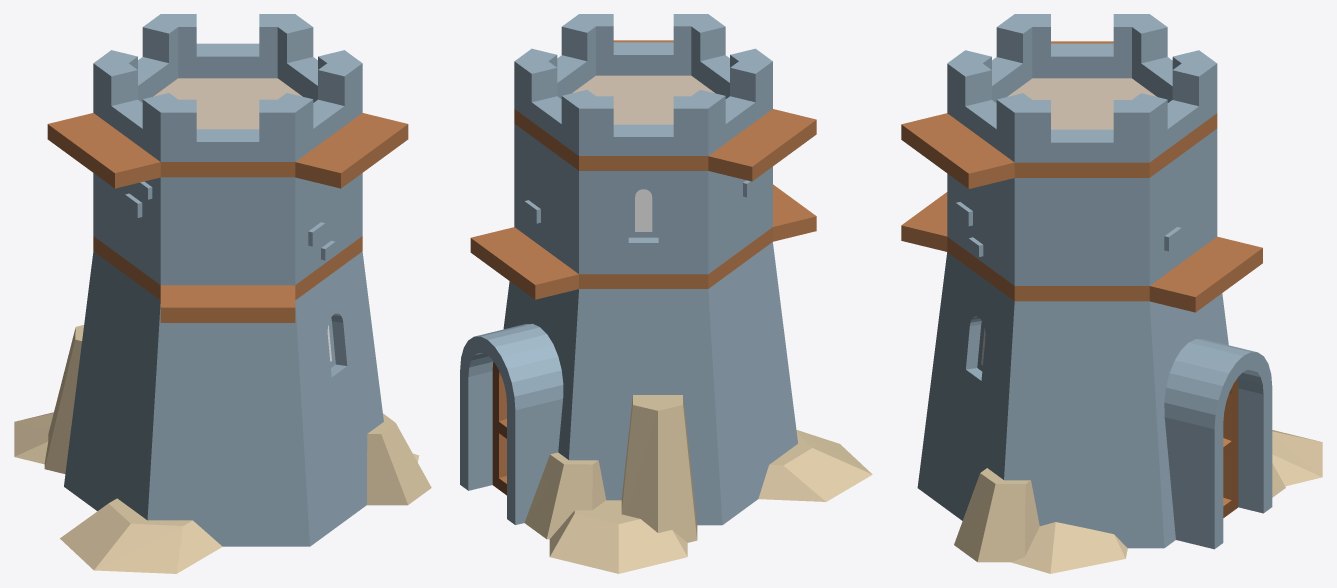
The model's file is tower.dae.
3 renders of one model, left to right at view 1: azimuth 30°, elevation 25°; view 2: azimuth 150°, elevation 25°; view 3: azimuth 270°, elevation 25°, orthographic. The views are drawn at different scales.
Parts seen in each view (by area): view 1: tower_001; view 2: tower_001; view 3: tower_001.
Part boxes in pixels (x1,y1,x2,y2): tower_001: [14, 14, 431, 573]; tower_001: [460, 14, 872, 573]; tower_001: [901, 14, 1322, 573].
Size of the model in its own units: 33.22 by 33.4 by 37.15.
